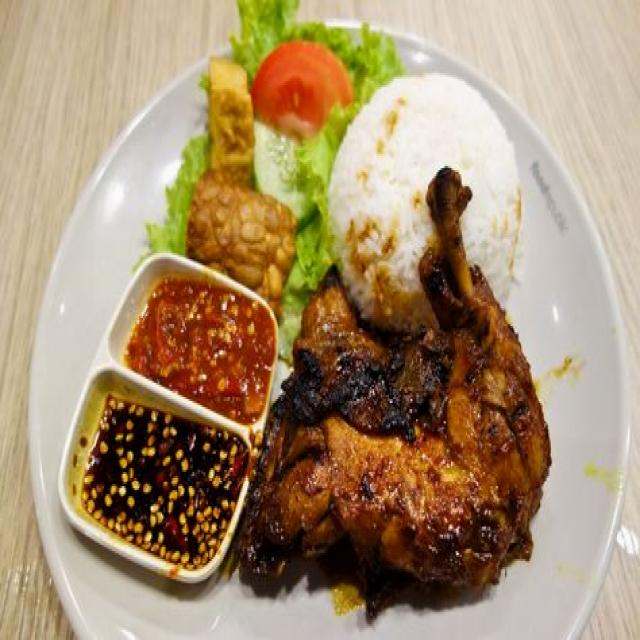ayam bakar: (238, 201, 552, 624)
nasi: (329, 75, 523, 328)
tempe goreng: (185, 156, 297, 314)
